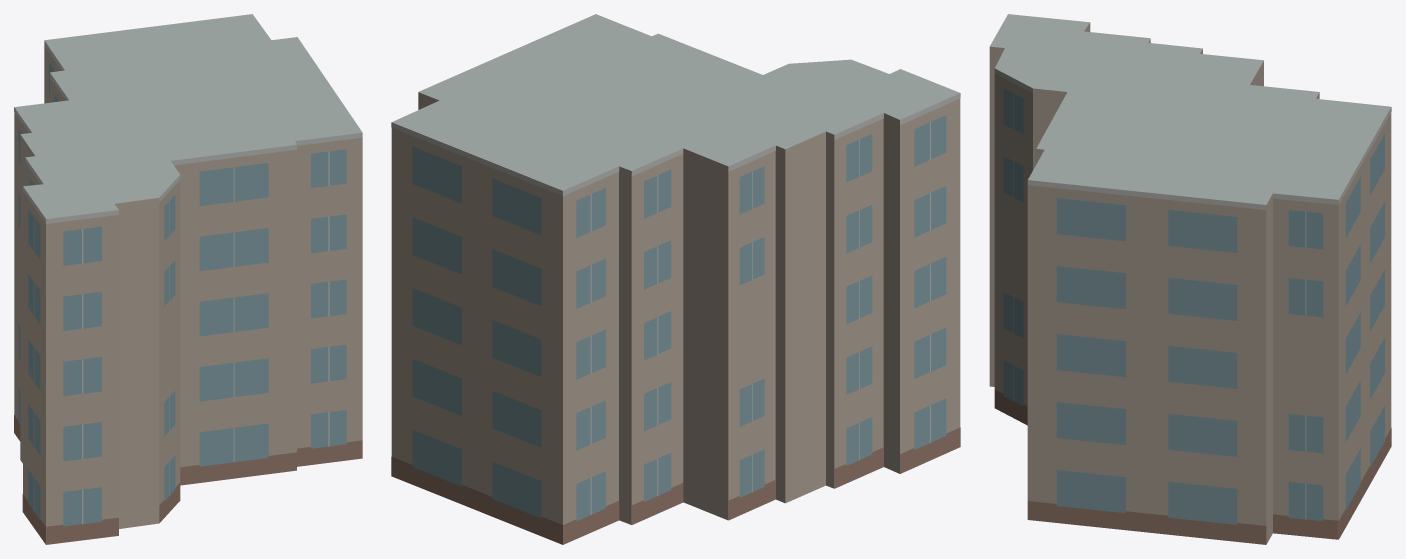
Rendered from survey-upis-32916791.glb.
3 views of the same model, side by side, from view 1: azimuth 30°, elevation 25°; view 2: azimuth 150°, elevation 25°; view 3: azimuth 270°, elevation 25° (orthographic). The views are drawn at different scales.
Parts seen in each view (by area): view 1: survey-upis-32916791.tmp; view 2: survey-upis-32916791.tmp; view 3: survey-upis-32916791.tmp.
Part boxes in pixels (box(x1,y1,x2,y2)): survey-upis-32916791.tmp: box(14, 14, 362, 544); survey-upis-32916791.tmp: box(391, 14, 960, 544); survey-upis-32916791.tmp: box(989, 14, 1391, 544).
Bounding box in the file's own units: 19.41 × 16.1 × 17.26.
